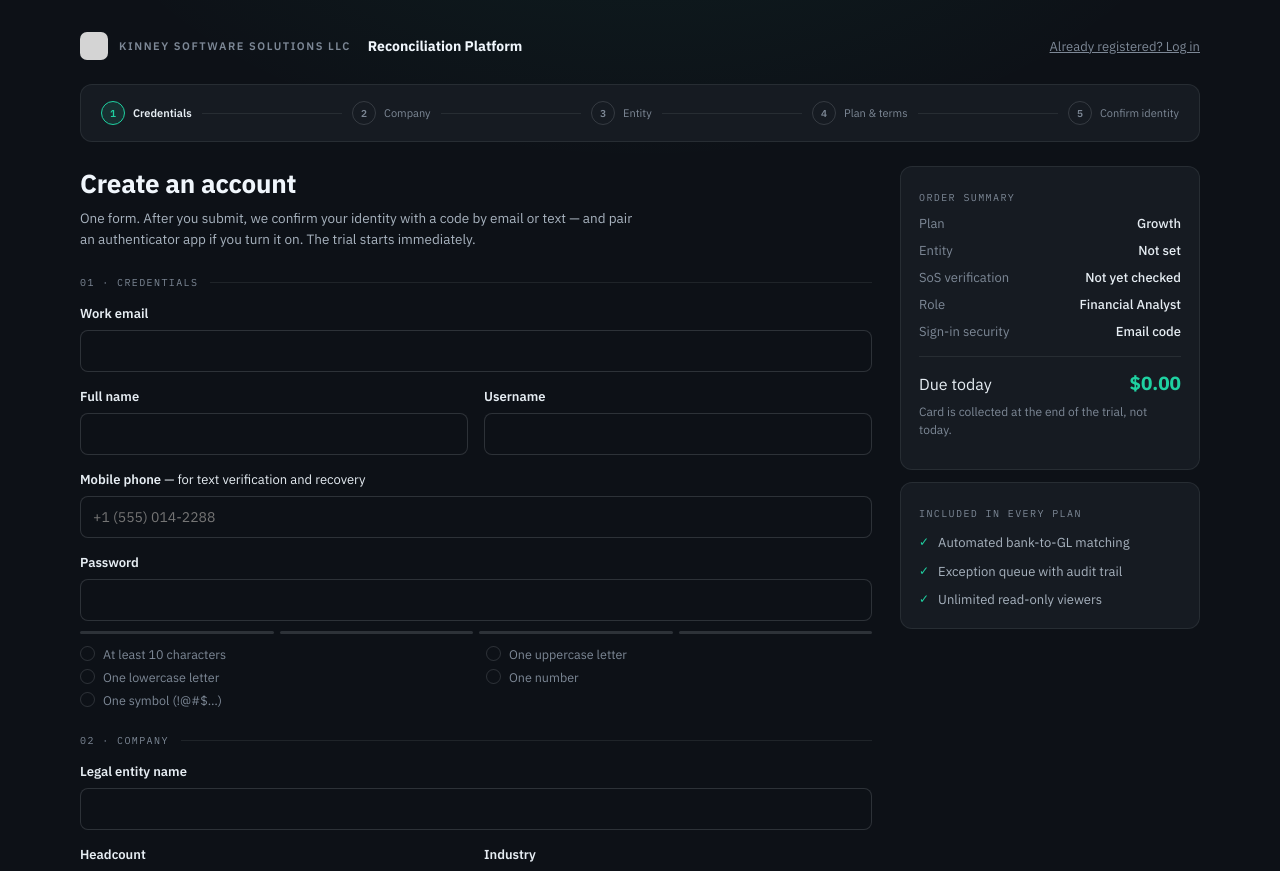
Test: field validation notes › flags a username that looks like an email, one that is too short, and accepts a valid one
Type "someone@example.com" into the field labelled "Username" at (678, 434), box top-left (484, 413), bottom-right (872, 455)
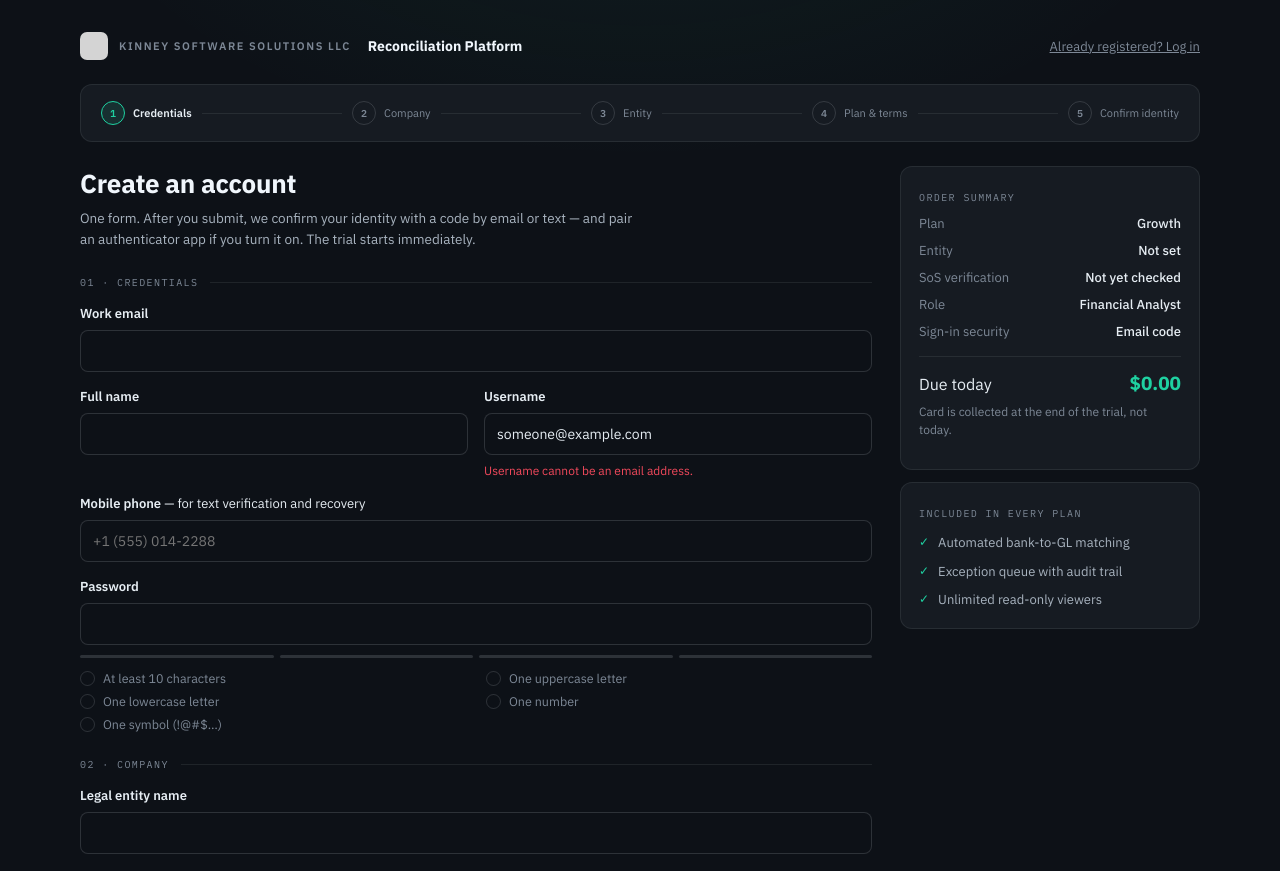
Expected: the text "Username cannot be an email address." is shown, top-left (484, 463), bottom-right (693, 478)
Replace the text in the field labelled "Username" with "abc" at (678, 434), box top-left (484, 413), bottom-right (872, 455)
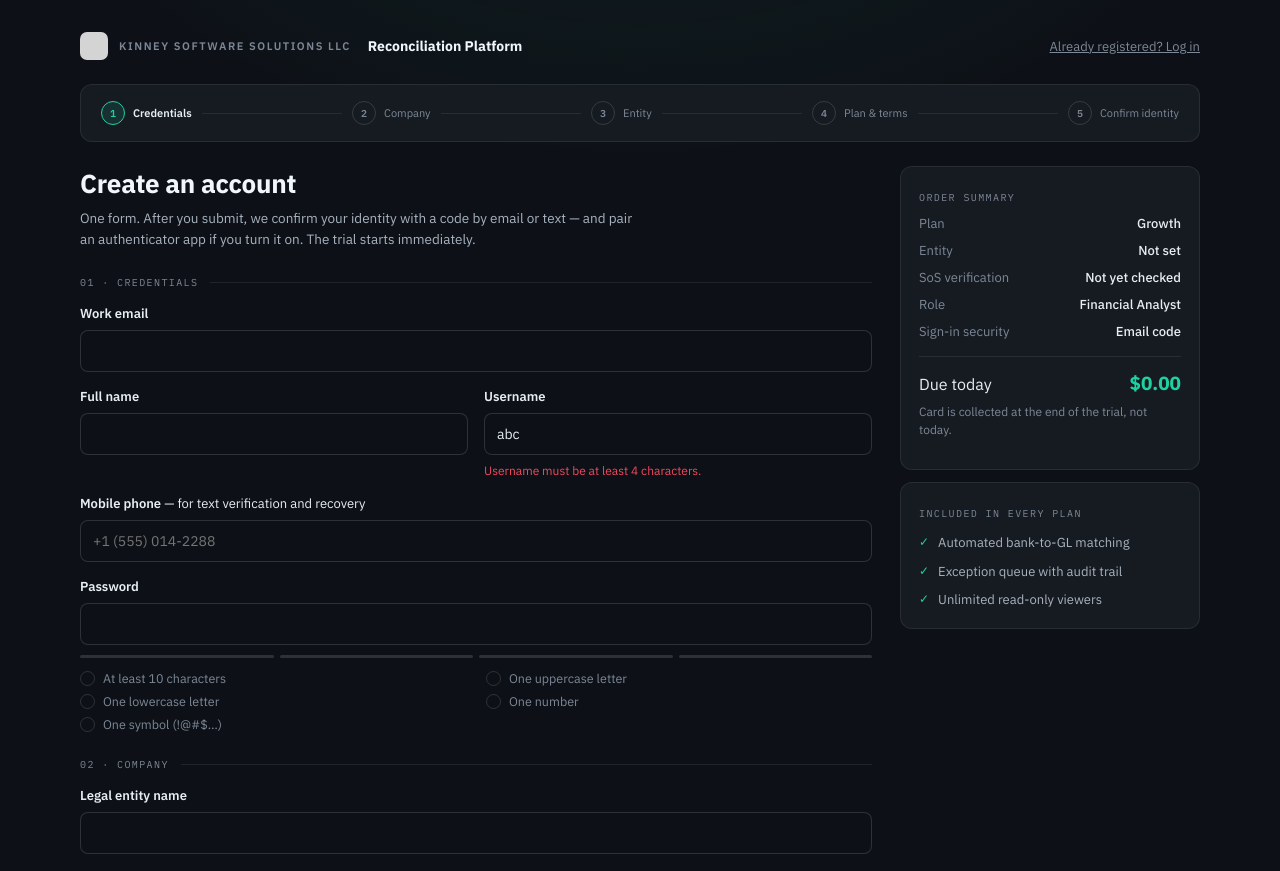
Expected: the text "Username must be at least 4 characters." is shown, top-left (484, 463), bottom-right (701, 478)
Replace the text in the field labelled "Username" with "j.analyst" at (678, 434), box top-left (484, 413), bottom-right (872, 455)
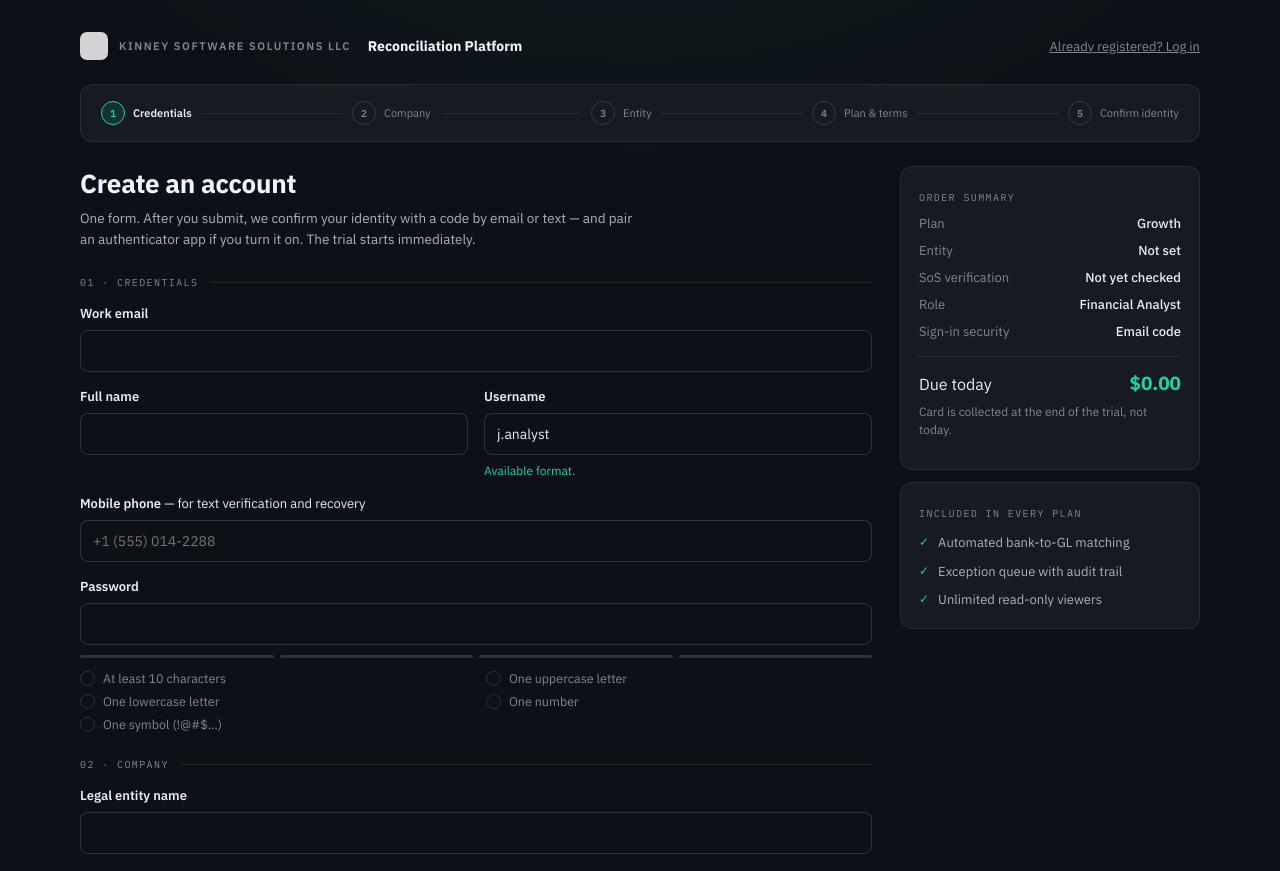
Expected: the text "Available format." is shown, top-left (484, 463), bottom-right (575, 478)
